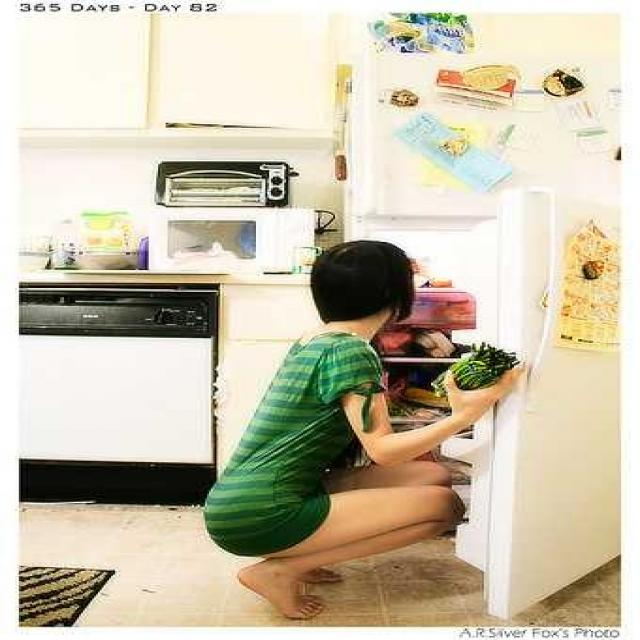refrigerator: (359, 50, 633, 554)
